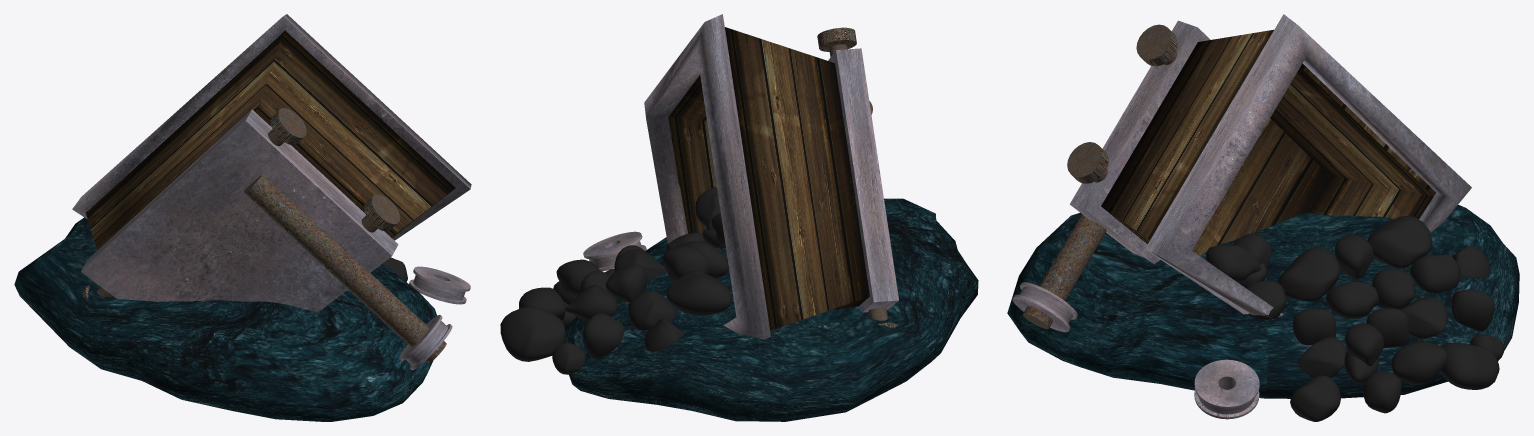
Rendered from brokenCart1.fbx.
3 views of the same model, side by side, from view 1: azimuth 30°, elevation 25°; view 2: azimuth 150°, elevation 25°; view 3: azimuth 270°, elevation 25° (orthographic). The views are drawn at different scales.
Visible parts, largest first — view 1: Sphere.21, Cube, Cube.1-Cube.2, Cube.2-Cube.3, Cylinder.6, Cylinder.3, Cylinder.5-Cylinder.10, Cylinder.4; view 2: Sphere.21, Cube.1-Cube.2, coal, Cube.2-Cube.3, Cube, Cylinder.5-Cylinder.10, Cylinder.3; view 3: Sphere.21, Cube.1-Cube.2, coal, Cube.2-Cube.3, Cube, Cylinder.5-Cylinder.10, Cylinder.6, Cylinder.3, Cylinder.4.
Part boxes in pixels (x1,y1,x2,y2): Sphere.21: (14,217,436,421); Cube: (81,109,398,312); Cube.1-Cube.2: (85,30,455,250); Cube.2-Cube.3: (72,14,471,240); Cylinder.6: (244,174,446,363); Cylinder.3: (82,108,400,299); Cylinder.5-Cylinder.10: (409,266,470,304); Cylinder.4: (399,315,452,370); Sphere.21: (565,198,978,421); Cube.1-Cube.2: (668,27,869,330); coal: (500,187,731,374); Cube.2-Cube.3: (644,14,770,339); Cube: (828,48,898,312); Cylinder.5-Cylinder.10: (583,231,646,271); Cylinder.3: (817,27,897,327); Sphere.21: (1007,204,1519,398); Cube.1-Cube.2: (1101,29,1436,319); coal: (1205,216,1504,421); Cube.2-Cube.3: (1145,14,1471,316); Cube: (1069,20,1210,263); Cylinder.5-Cylinder.10: (1194,359,1259,419); Cylinder.6: (1023,214,1106,329); Cylinder.3: (1067,24,1177,183); Cylinder.4: (1012,282,1077,332).
Bounding box in the file's own units: 434 × 375 × 486.
9 materials, 8 textured.
